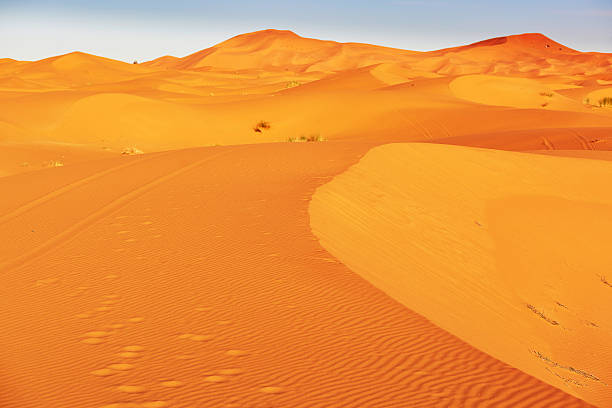animal_footprint: (0, 374, 611, 407), (83, 332, 110, 343), (119, 346, 142, 358), (92, 368, 114, 376), (219, 368, 243, 375), (117, 385, 145, 391), (162, 380, 182, 387), (259, 387, 282, 393), (188, 335, 211, 341), (226, 350, 247, 355), (204, 377, 225, 382), (95, 308, 111, 311), (217, 321, 231, 324), (130, 318, 143, 321), (105, 274, 117, 277)
